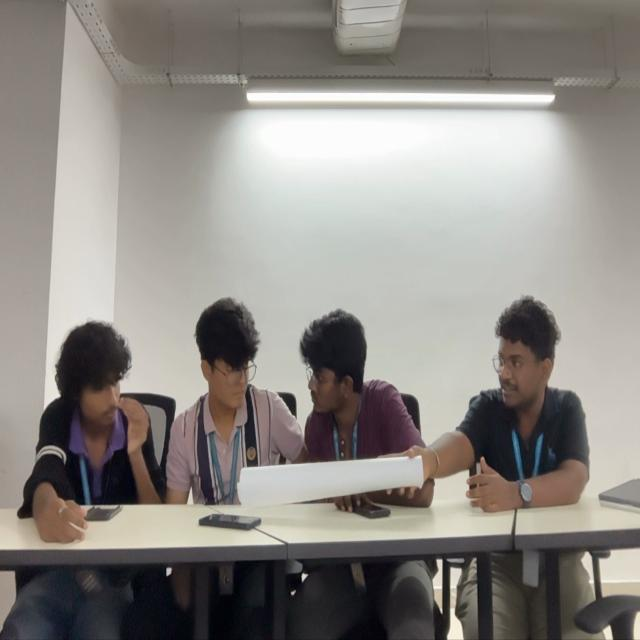Isolated: (450, 295, 598, 505)
socializing: (18, 296, 427, 516)
